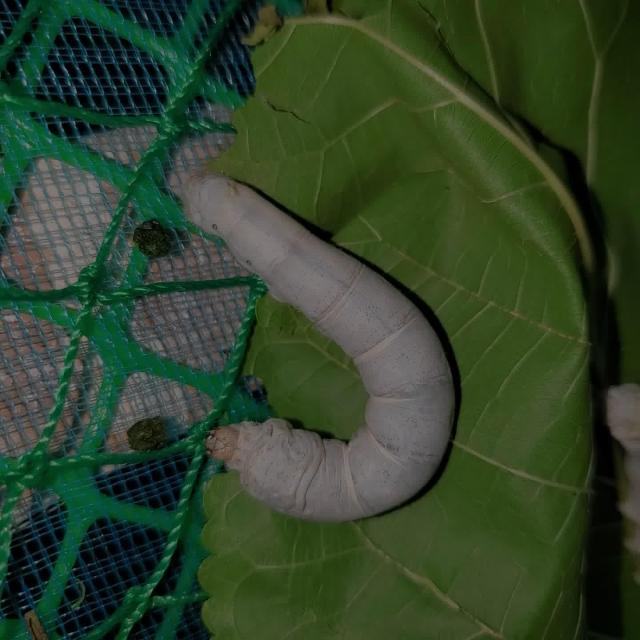Healthy: (159, 137, 479, 541)
